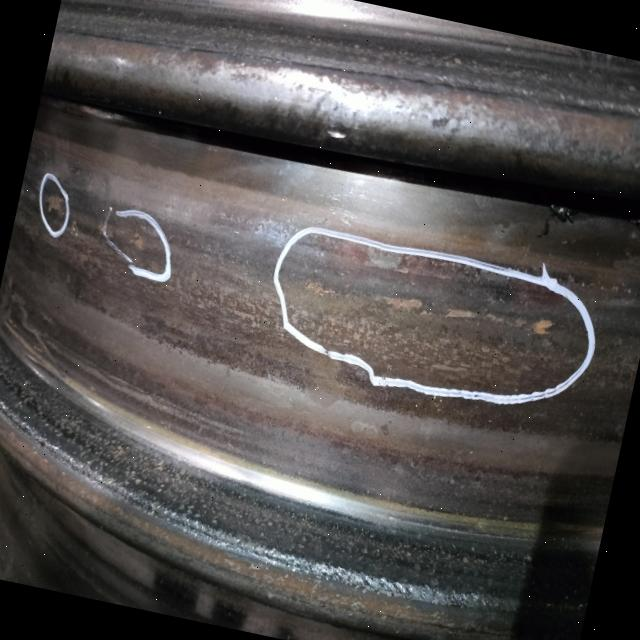Contact_Fatigue_Cracks: (1, 273, 89, 399)
Peeling: (260, 237, 584, 406), (26, 184, 116, 283), (116, 220, 165, 271)
